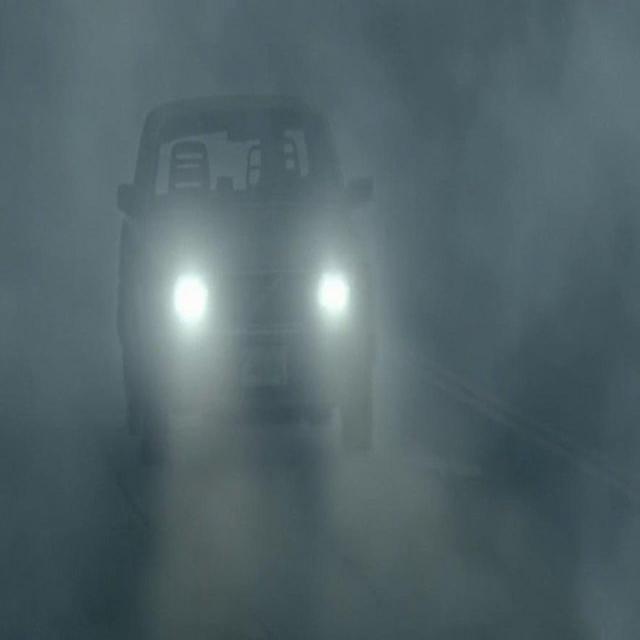Car: (104, 61, 386, 463)
